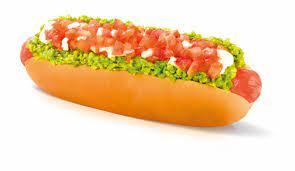Completos: (23, 12, 253, 129)
